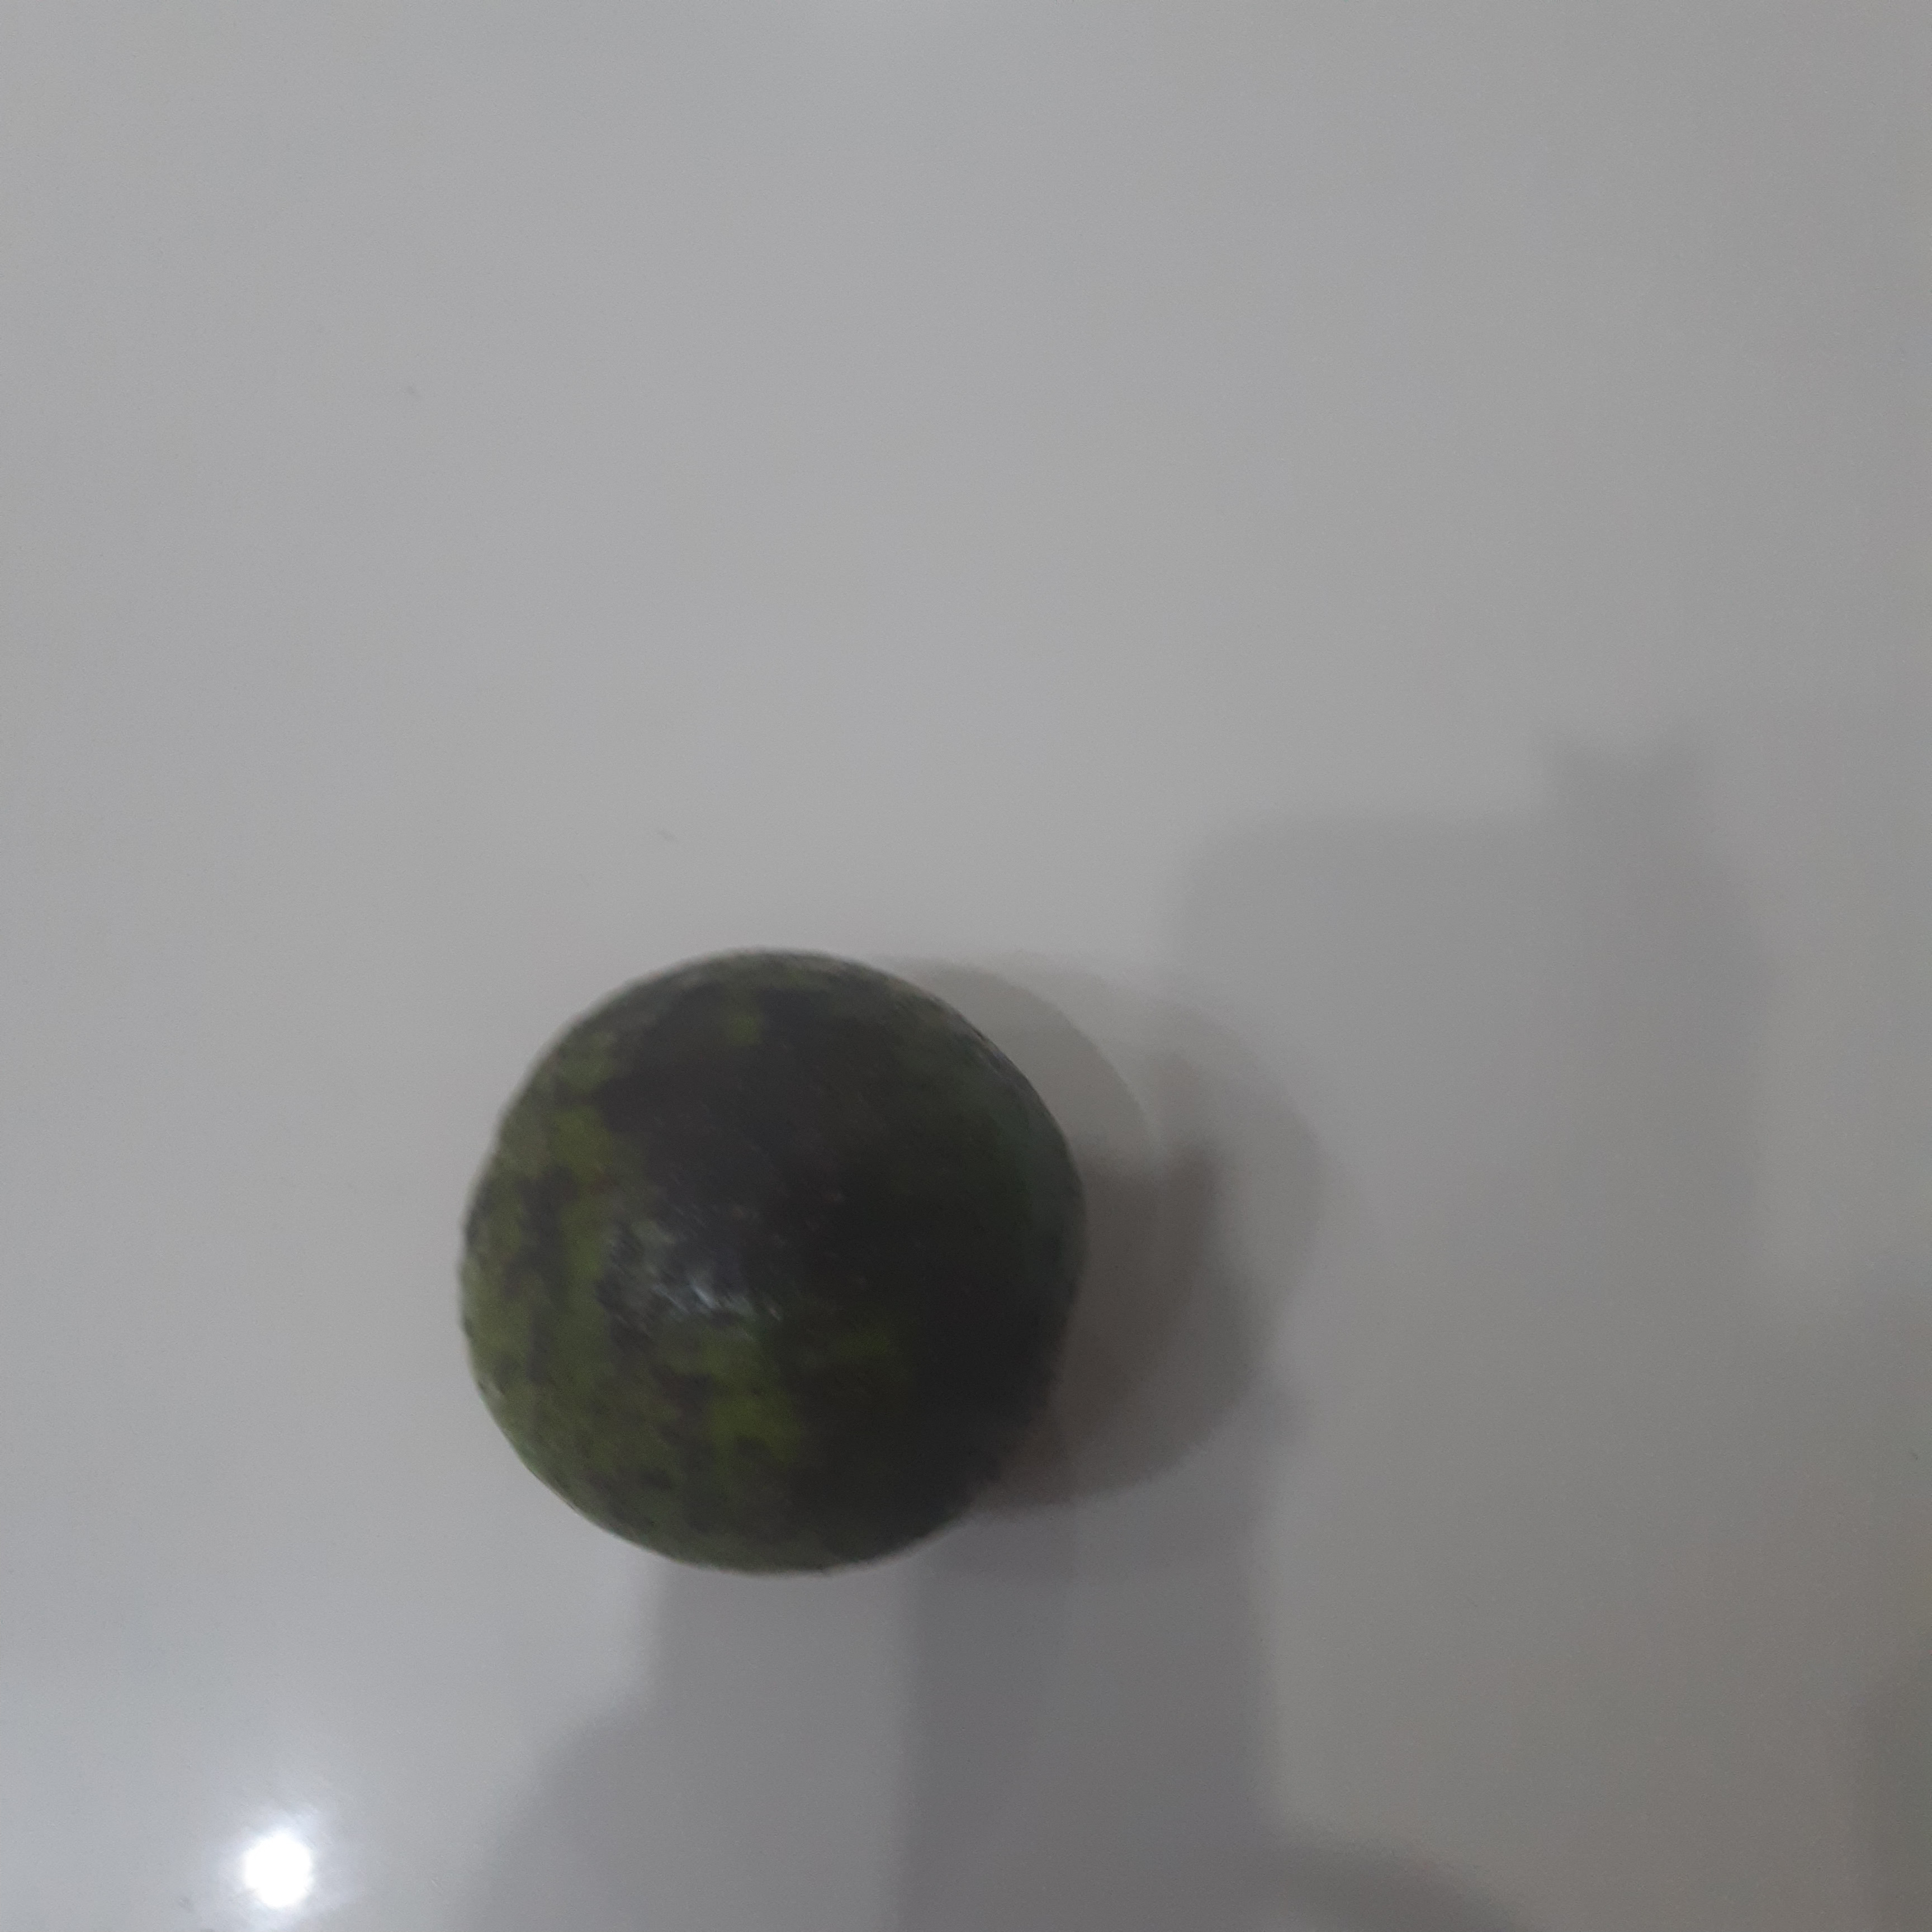Bo: (453, 950, 1079, 1582)
